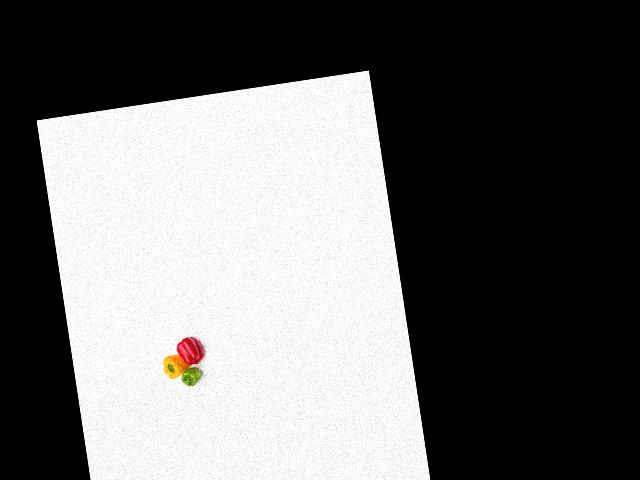bell_pepper: (178, 365, 205, 392)
